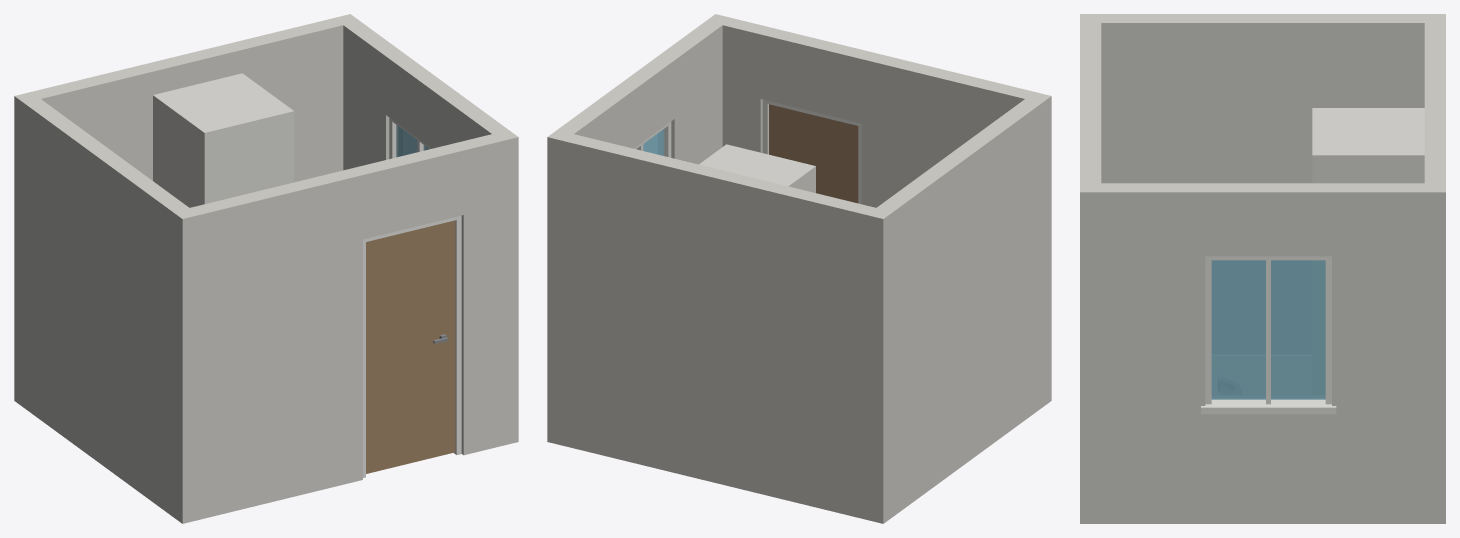
The model's file is layoutgpt.glb.
3 views of the same model, side by side, from view 1: azimuth 30°, elevation 25°; view 2: azimuth 150°, elevation 25°; view 3: azimuth 270°, elevation 25° (orthographic). The views are drawn at different scales.
Visible parts, largest first — view 1: wall|scenesmith_101__R00|0, wall|scenesmith_101__R00|2, wall|scenesmith_101__R00|1, wall|scenesmith_101__R00|0 Door 0 | wood leaf, scenesmith_101__R00_3 | structural enclosure, wall|scenesmith_101__R00|3, wall|scenesmith_101__R00|0 Door 0 | jamb; view 2: wall|scenesmith_101__R00|1, wall|scenesmith_101__R00|2, wall|scenesmith_101__R00|0, wall|scenesmith_101__R00|3, wall|scenesmith_101__R00|0 Door 0 | wood leaf, scenesmith_101__R00_3 | structural enclosure, wall|scenesmith_101__R00|0 Door 0 | jamb; view 3: wall|scenesmith_101__R00|3, wall|scenesmith_101__R00|2, wall|scenesmith_101__R00|3 Window 0 | glazing, scenesmith_101__R00_3 | structural enclosure, wall|scenesmith_101__R00|3 Window 0 | jamb, wall|scenesmith_101__R00|1, wall|scenesmith_101__R00|0.
Boxes of the visible parts, x1=… form: wall|scenesmith_101__R00|0: x1=182, y1=134, x2=518, y2=523; wall|scenesmith_101__R00|2: x1=15, y1=92, x2=198, y2=523; wall|scenesmith_101__R00|1: x1=14, y1=18, x2=343, y2=407; wall|scenesmith_101__R00|0 Door 0 | wood leaf: x1=366, y1=220, x2=455, y2=473; scenesmith_101__R00_3 | structural enclosure: x1=153, y1=73, x2=294, y2=207; wall|scenesmith_101__R00|3: x1=334, y1=14, x2=517, y2=170; wall|scenesmith_101__R00|0 Door 0 | jamb: x1=363, y1=215, x2=461, y2=477; wall|scenesmith_101__R00|1: x1=547, y1=134, x2=893, y2=523; wall|scenesmith_101__R00|2: x1=867, y1=92, x2=1051, y2=516; wall|scenesmith_101__R00|0: x1=722, y1=18, x2=1034, y2=207; wall|scenesmith_101__R00|3: x1=548, y1=14, x2=731, y2=164; wall|scenesmith_101__R00|0 Door 0 | wood leaf: x1=769, y1=104, x2=858, y2=203; scenesmith_101__R00_3 | structural enclosure: x1=699, y1=144, x2=815, y2=192; wall|scenesmith_101__R00|0 Door 0 | jamb: x1=762, y1=99, x2=861, y2=204; wall|scenesmith_101__R00|3: x1=1080, y1=183, x2=1445, y2=523; wall|scenesmith_101__R00|2: x1=1080, y1=14, x2=1445, y2=183; wall|scenesmith_101__R00|3 Window 0 | glazing: x1=1211, y1=260, x2=1325, y2=399; scenesmith_101__R00_3 | structural enclosure: x1=1312, y1=108, x2=1424, y2=183; wall|scenesmith_101__R00|3 Window 0 | jamb: x1=1201, y1=256, x2=1336, y2=414; wall|scenesmith_101__R00|1: x1=1424, y1=14, x2=1445, y2=183; wall|scenesmith_101__R00|0: x1=1080, y1=23, x2=1101, y2=183.
Size of the model in its own units: 3.03 by 2.61 by 2.6.
